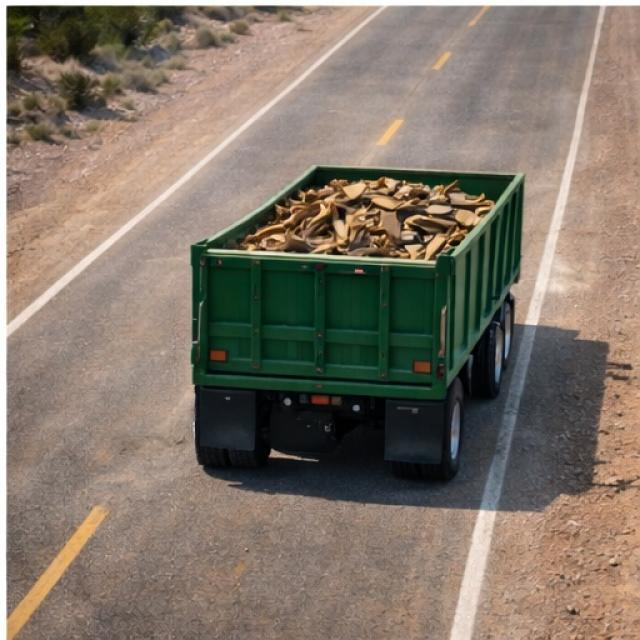trailer: (192, 168, 528, 294)
truck: (171, 144, 533, 467)
